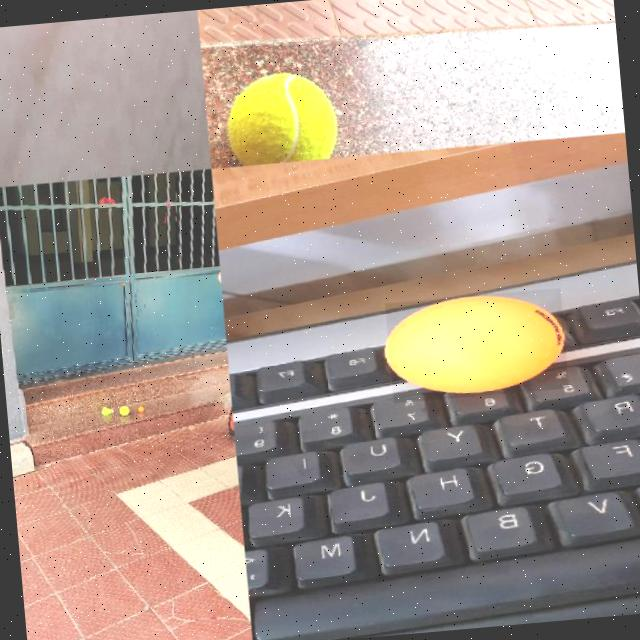ping-pong-ball: (383, 288, 569, 404), (138, 404, 145, 412)
